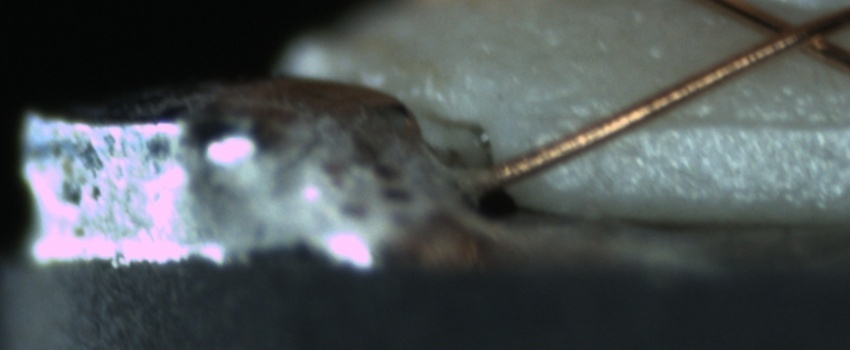CL: (743, 3, 841, 63)
DL: (542, 87, 850, 153)
